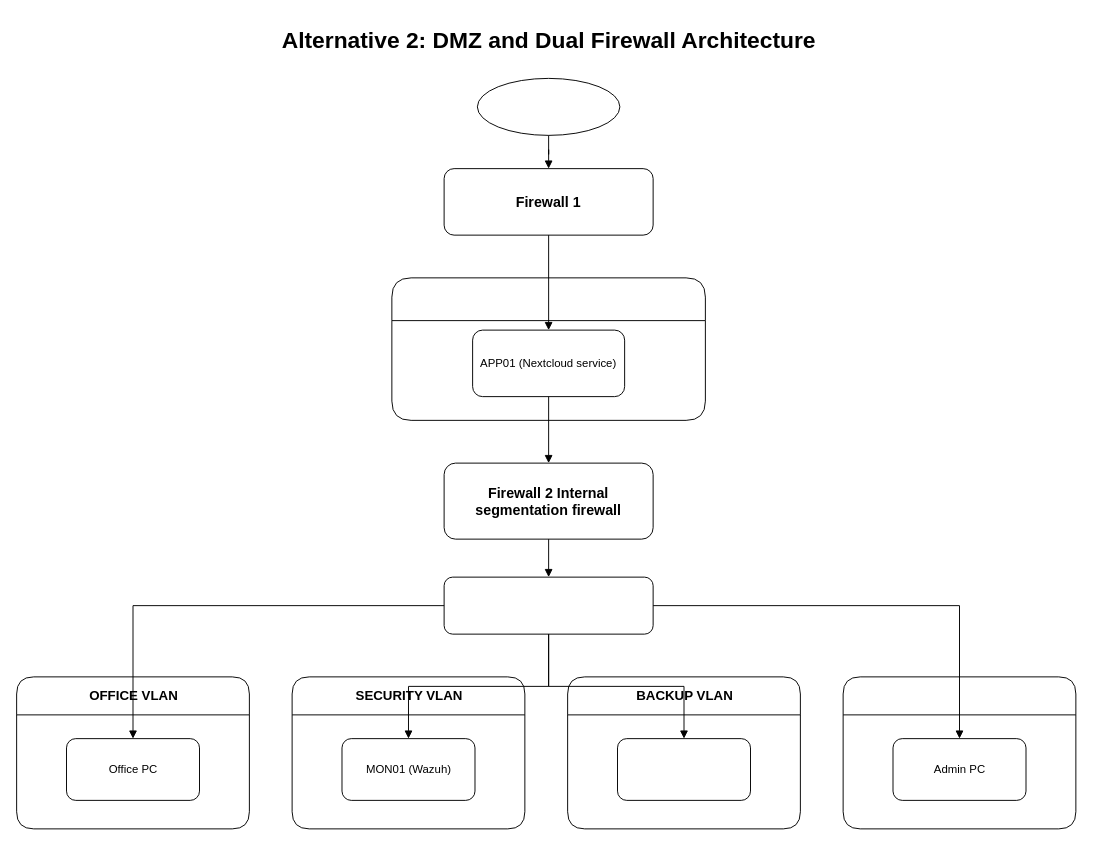
The diagram is 1093 pixels wide and 846 high, and some of its shapes have lost their labels. The box of each missing label's shape, as (x1, y1, x2, y2) in pixels:
BKP01 (MinIO / Restic): (617, 738, 750, 800)
Internal Core Switch: (443, 576, 653, 634)
INTERNET: (476, 77, 620, 135)
MANAGEMENT VLAN: (842, 676, 1076, 829)
Public facing application zone: (391, 277, 705, 420)
